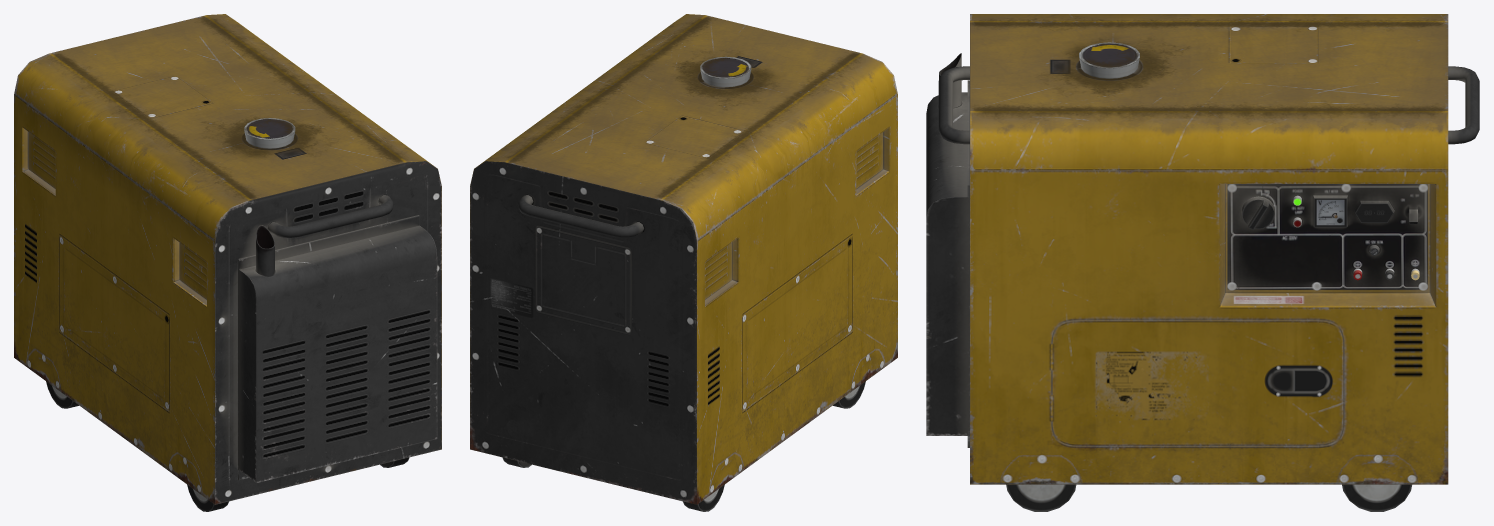
Rendered from diesel_generator.glb.
The picture shows the model from 3 angles, left to right: view 1: azimuth 30°, elevation 25°; view 2: azimuth 150°, elevation 25°; view 3: azimuth 270°, elevation 25°; orthographic projection. The views are drawn at different scales.
Parts seen in each view (by area): view 1: 12_low, 3_low, 2_low, 1_low, 5_low, 4_low; view 2: 12_low, 2_low, 1_low, 5_low; view 3: 12_low, 3_low, 5_low, 2_low, 1_low, 8_low, 6_low, 9_low.
Part boxes in pixels (x1=…): 12_low: x1=14, y1=14, x2=441, y2=504; 3_low: x1=238, y1=215, x2=437, y2=482; 2_low: x1=268, y1=195, x2=394, y2=237; 1_low: x1=244, y1=118, x2=295, y2=148; 5_low: x1=46, y1=381, x2=409, y2=511; 4_low: x1=256, y1=225, x2=274, y2=276; 12_low: x1=470, y1=14, x2=897, y2=504; 2_low: x1=517, y1=195, x2=643, y2=237; 1_low: x1=700, y1=56, x2=751, y2=87; 5_low: x1=502, y1=381, x2=865, y2=511; 12_low: x1=970, y1=14, x2=1448, y2=484; 3_low: x1=926, y1=80, x2=969, y2=447; 5_low: x1=1006, y1=484, x2=1411, y2=511; 2_low: x1=938, y1=66, x2=1479, y2=144; 1_low: x1=1079, y1=42, x2=1139, y2=78; 8_low: x1=1313, y1=195, x2=1347, y2=227; 6_low: x1=1242, y1=196, x2=1274, y2=229; 9_low: x1=1354, y1=200, x2=1394, y2=222.
Size of the model in its own units: 0.4535 by 0.6415 by 0.8051.
Materials: 1 (1 with a texture image).
